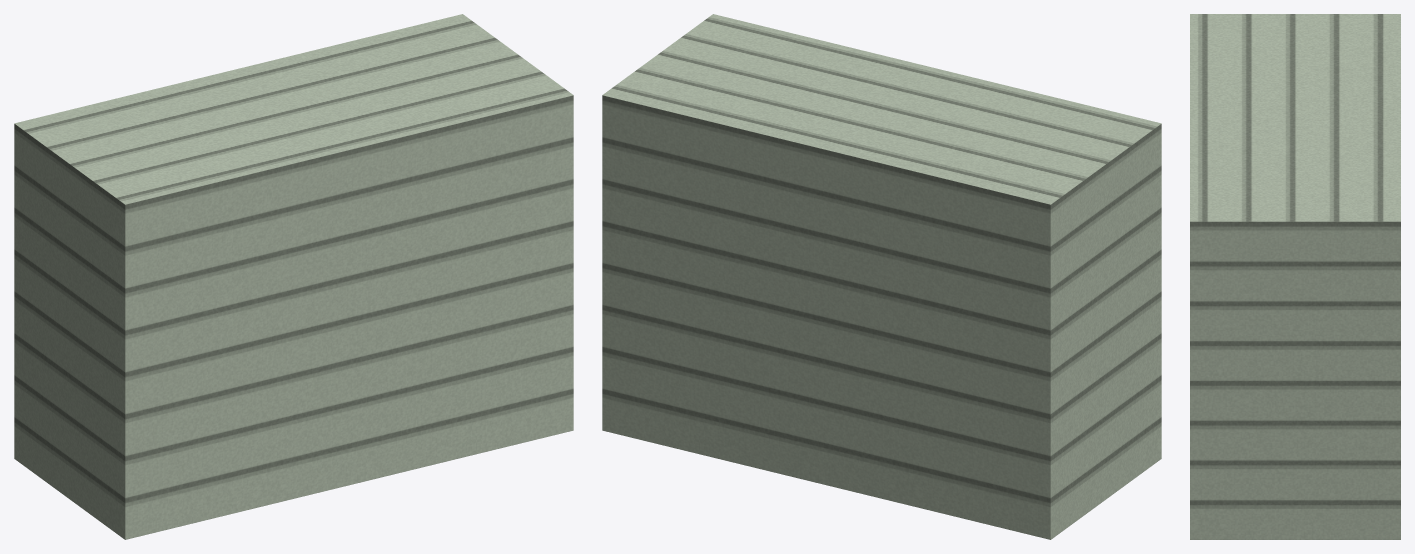
The model's file is booking_fingerprint_desk.glb.
3 views of the same model, side by side, from view 1: azimuth 30°, elevation 25°; view 2: azimuth 150°, elevation 25°; view 3: azimuth 270°, elevation 25° (orthographic). The views are drawn at different scales.
Visible parts, largest first — view 1: booking_fingerprint_desk-col; view 2: booking_fingerprint_desk-col; view 3: booking_fingerprint_desk-col.
Boxes of the visible parts, <box> form: booking_fingerprint_desk-col: <box>14,14,573,539</box>; booking_fingerprint_desk-col: <box>602,14,1161,539</box>; booking_fingerprint_desk-col: <box>1190,14,1400,539</box>.
Bounding box in the file's own units: 1.4 × 1 × 0.6.
Materials: 1 (1 with a texture image).
